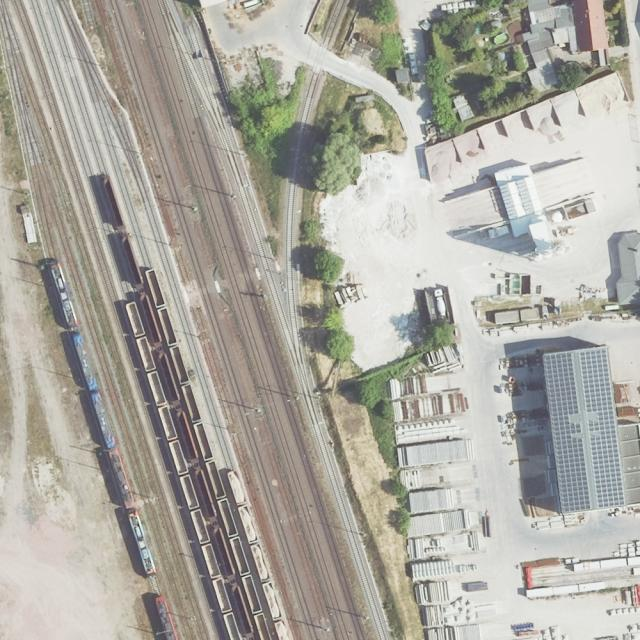PV: (544, 349, 626, 513)
